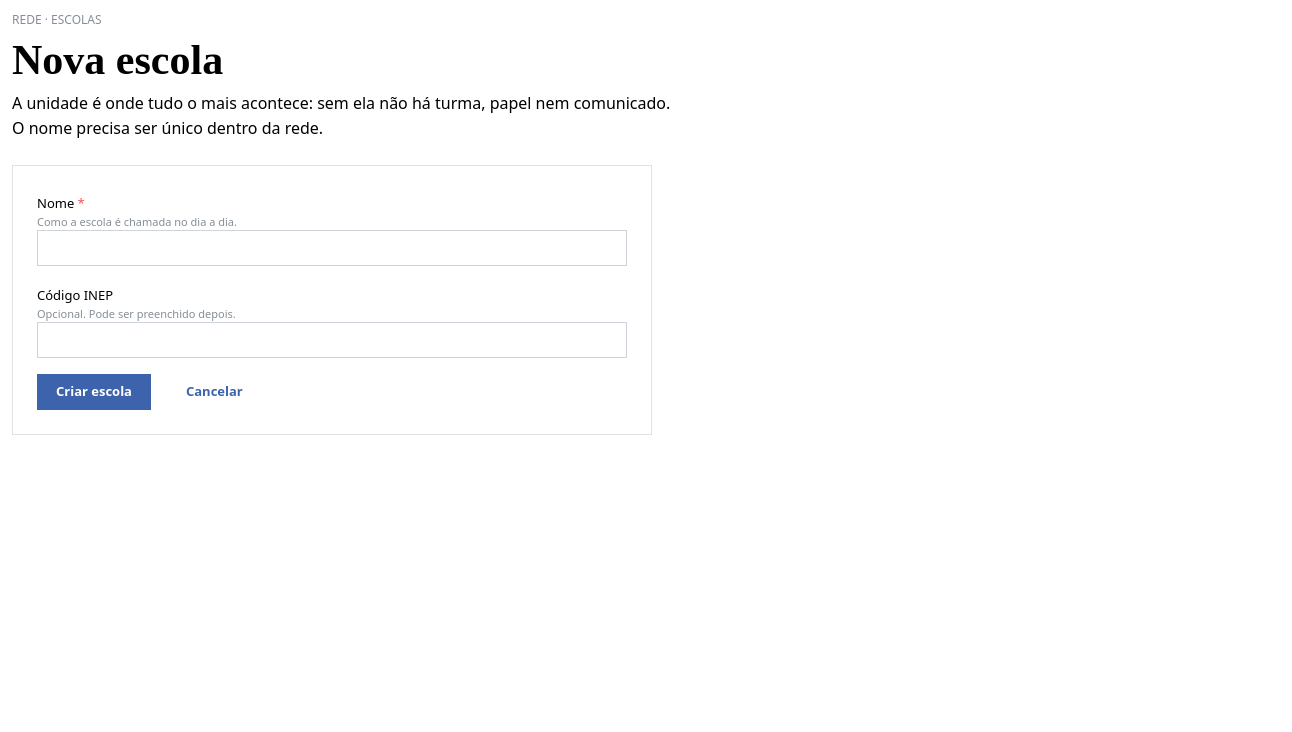
SchoolForm › creates a school and goes back to the list
Type "Escola Nova" into the field labelled "Nome". click: (332, 248)
box: [37,230,627,266]
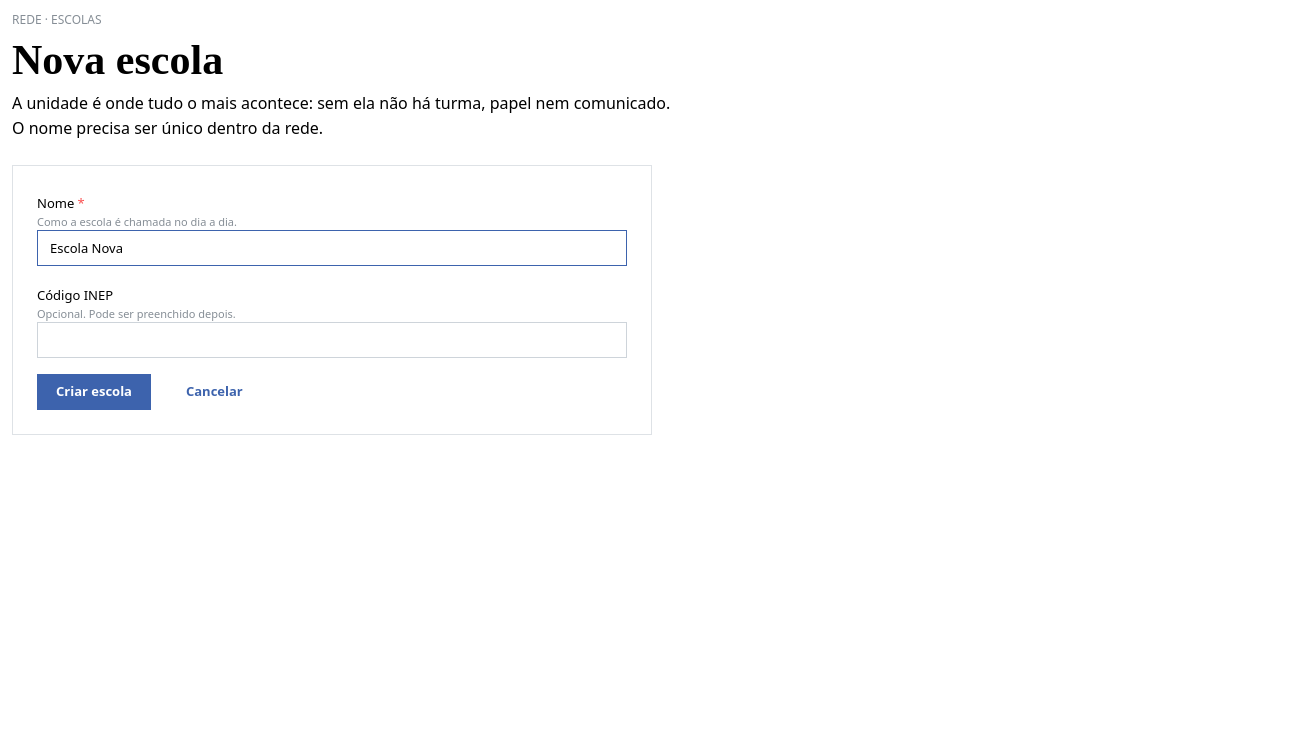
Click the button "Criar escola". click: (94, 392)
box: [37,374,151,410]
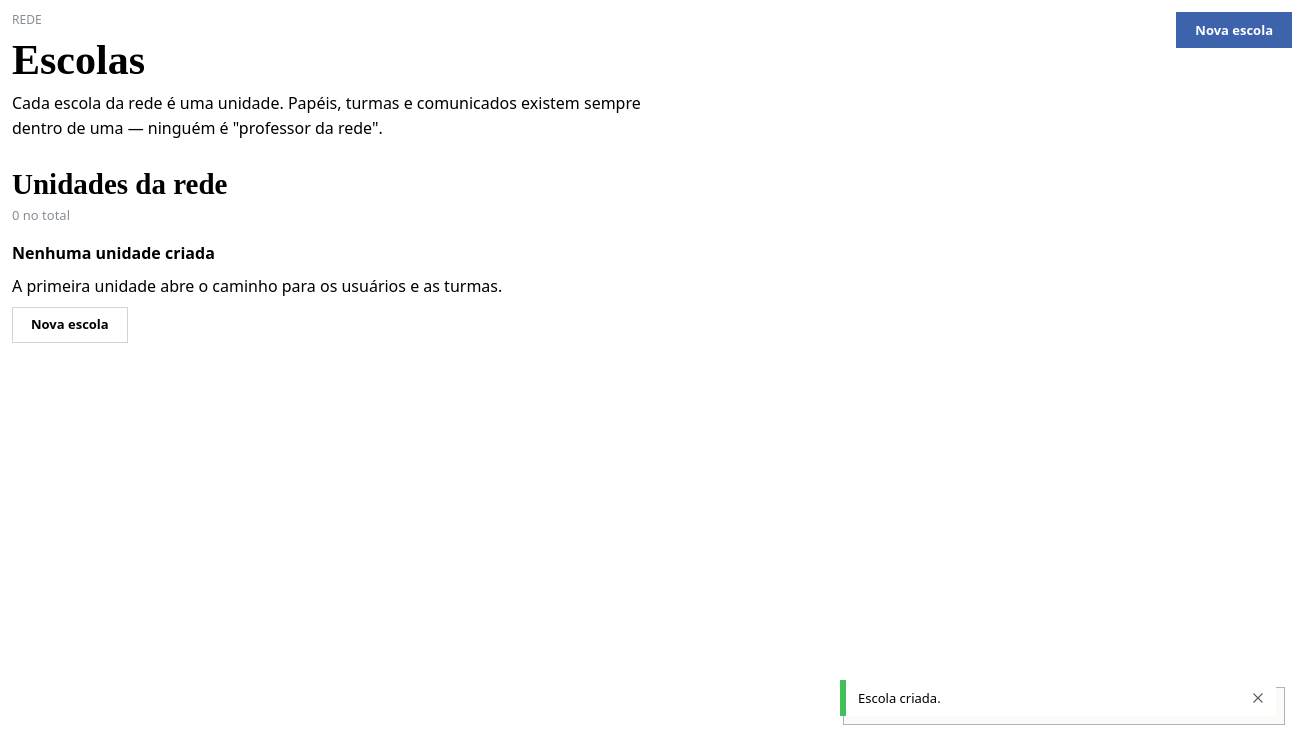
Check: the text "Nenhuma unidade criada" is shown, box [12,242,215,264]
